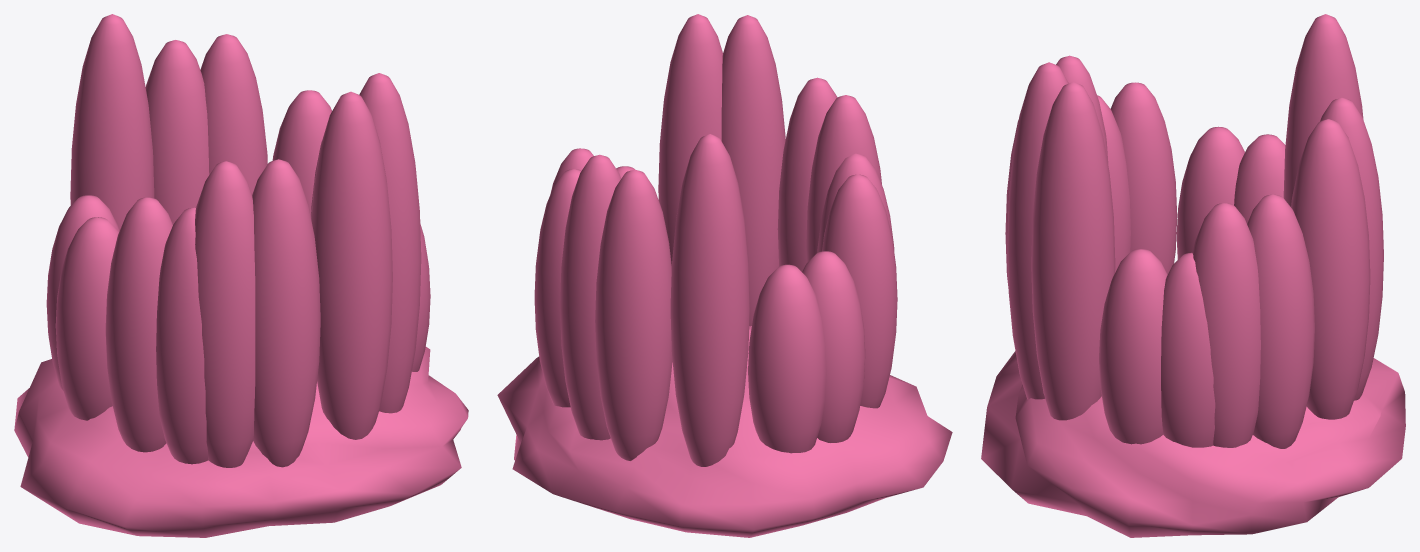
Rendered from underwater-reef-worlds-finger-coral-a34c7485__6997.glb.
3 renders of one model, left to right at view 1: azimuth 30°, elevation 25°; view 2: azimuth 150°, elevation 25°; view 3: azimuth 270°, elevation 25°, orthographic. The views are drawn at different scales.
Visible parts, largest first — view 1: finger-coral; view 2: finger-coral; view 3: finger-coral.
Boxes of the visible parts, x1=… form: finger-coral: x1=14, y1=14, x2=468, y2=537; finger-coral: x1=497, y1=14, x2=952, y2=537; finger-coral: x1=981, y1=14, x2=1405, y2=537.
Bounding box in the file's own units: 0.8031 × 0.74 × 0.7074.
